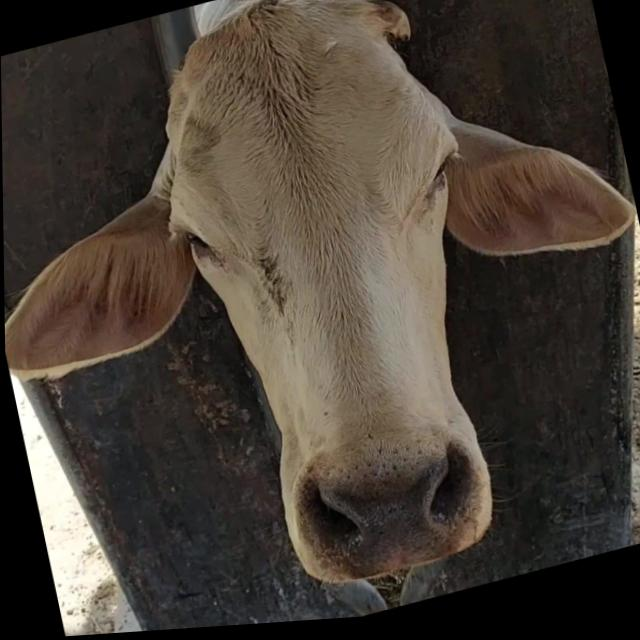cowFace: (128, 0, 539, 619)
